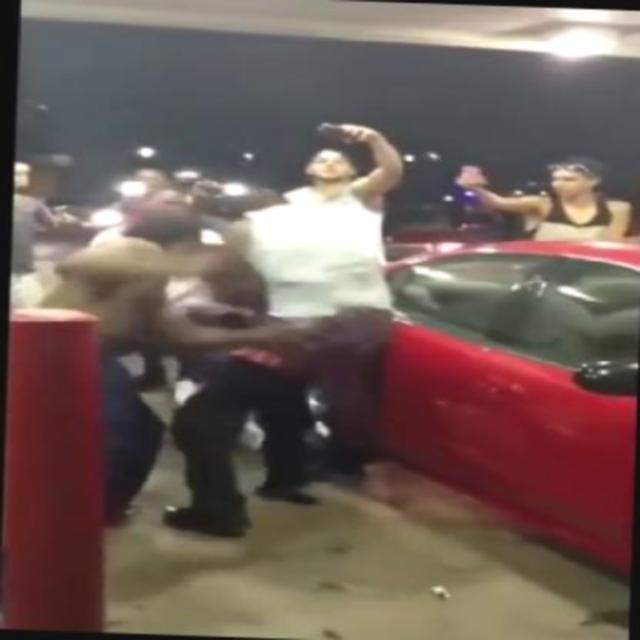fight: (79, 183, 401, 522)
non-fight: (450, 154, 638, 242)
